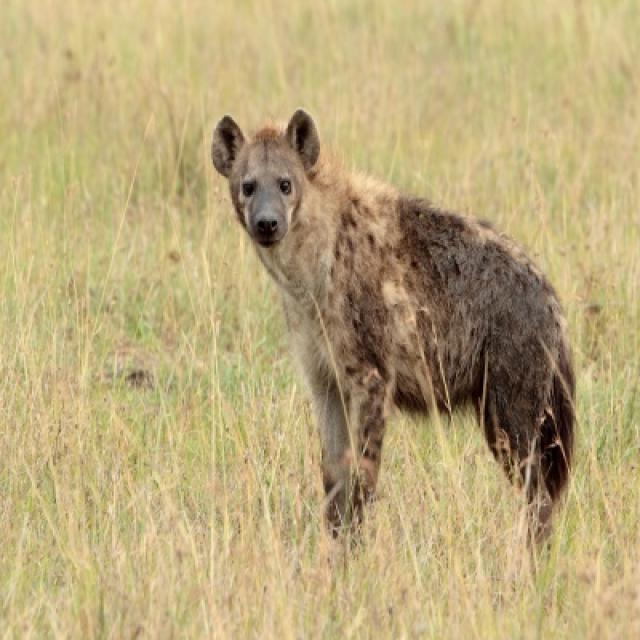hyena: (213, 109, 574, 541)
